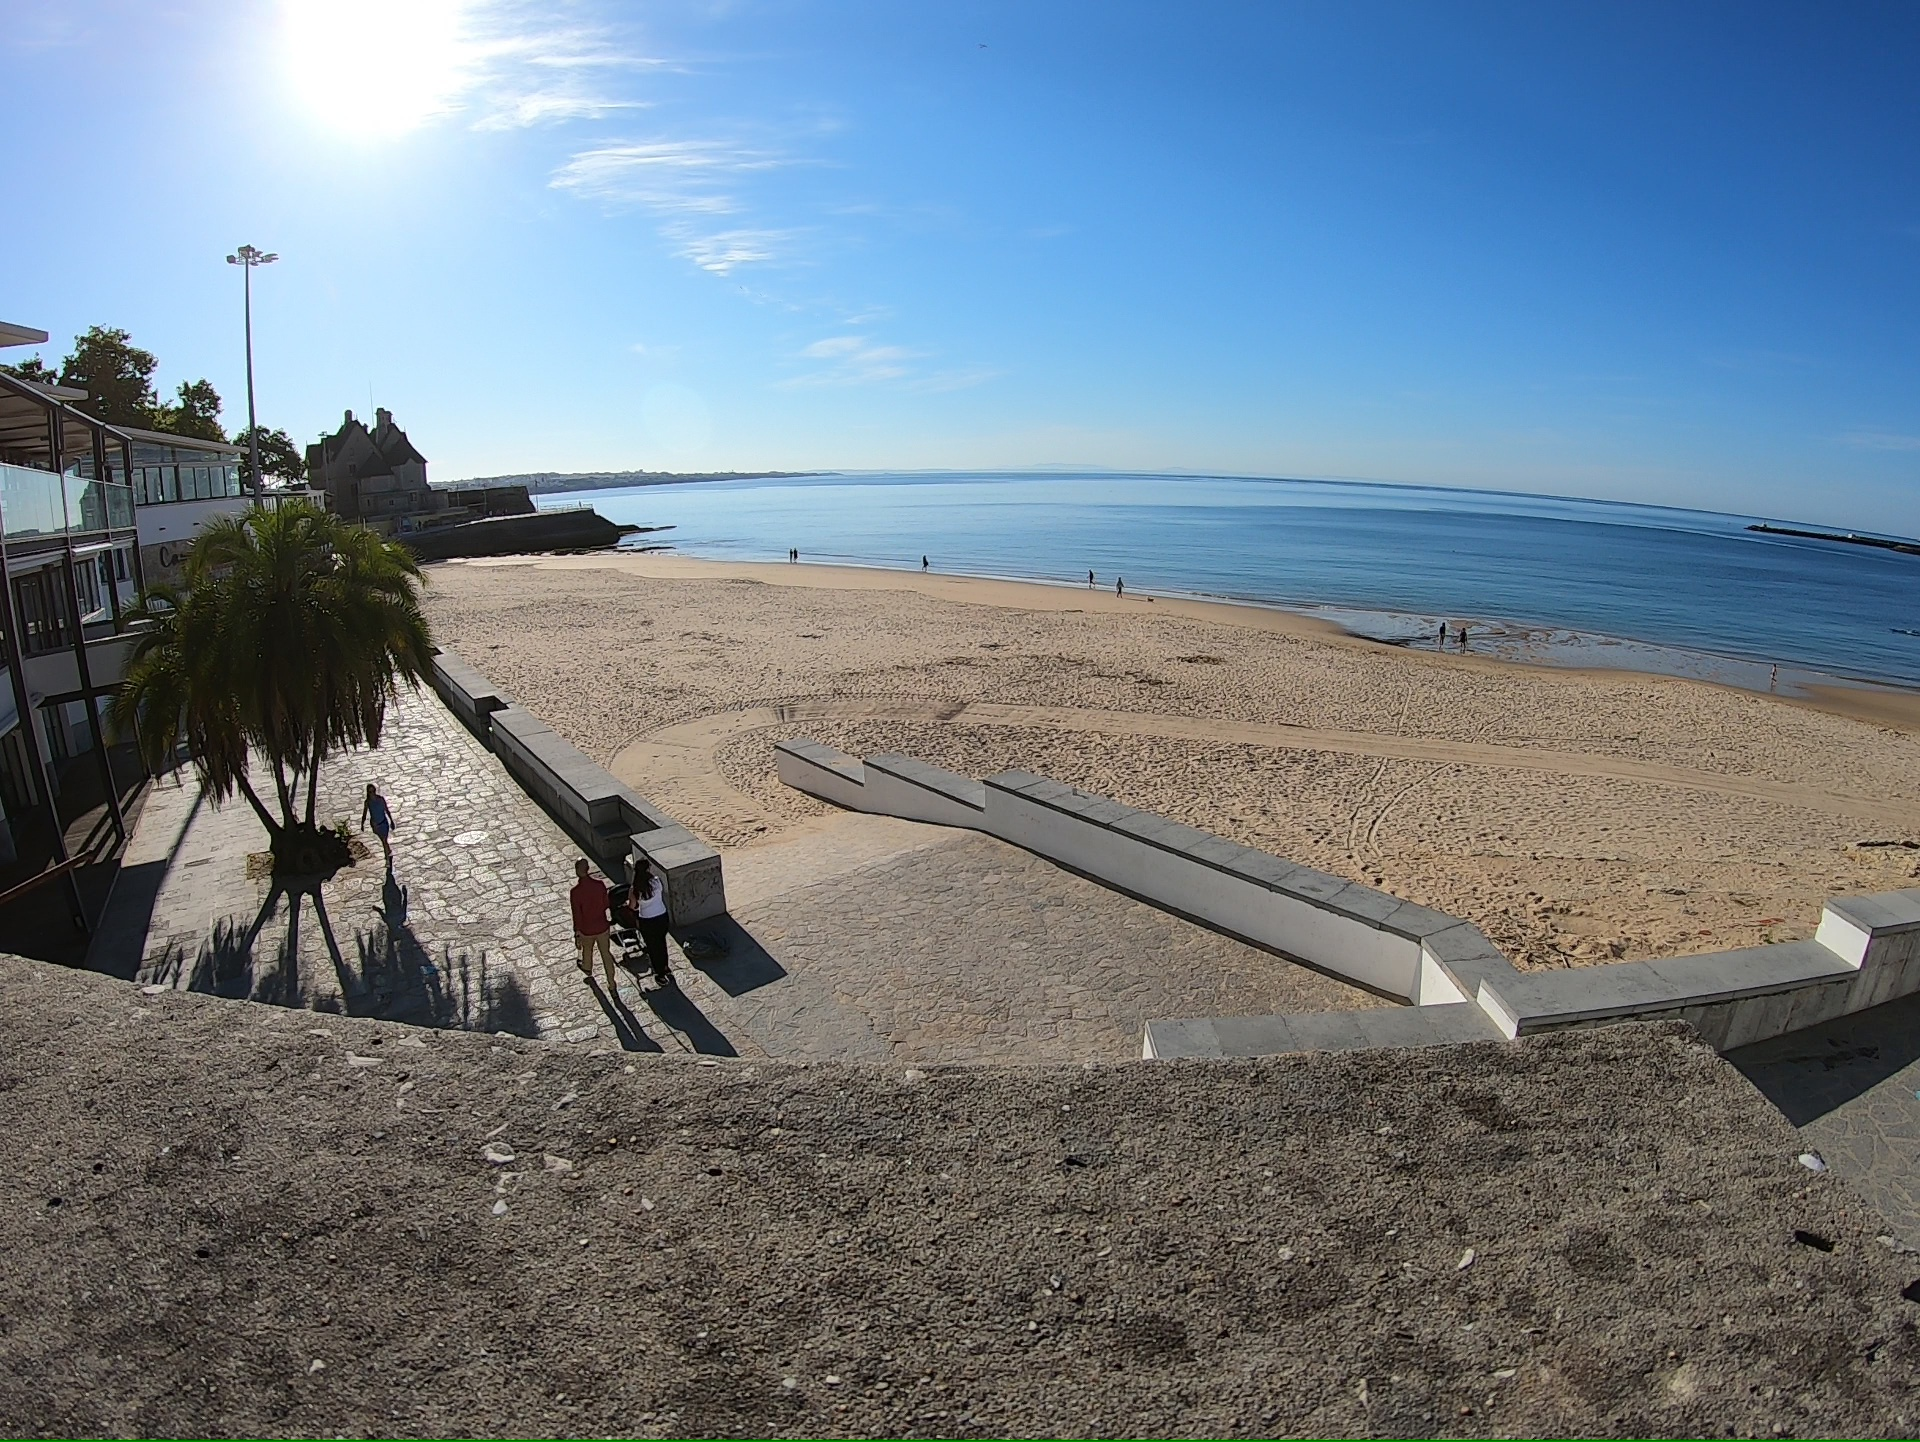person: (569, 857, 614, 989), (629, 857, 673, 988), (357, 782, 396, 865), (1114, 577, 1126, 599), (1458, 626, 1468, 653), (1086, 568, 1096, 590), (1439, 622, 1446, 650), (920, 553, 929, 572), (789, 546, 798, 564)
